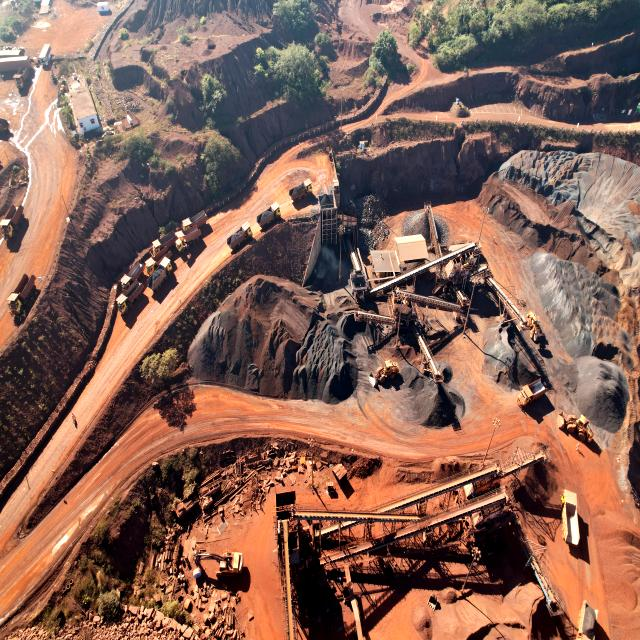Dumper truck: (563, 488, 580, 548), (7, 272, 32, 311), (0, 201, 23, 239), (578, 601, 598, 640), (519, 384, 547, 407), (259, 203, 281, 226), (230, 222, 252, 245), (145, 250, 167, 273), (121, 268, 143, 291), (117, 290, 139, 313), (176, 230, 198, 253), (182, 212, 204, 235), (152, 236, 174, 259), (150, 256, 172, 278), (12, 65, 29, 88), (292, 180, 312, 198), (619, 73, 640, 82), (0, 117, 9, 137), (534, 64, 544, 72)
Excavator: (193, 547, 249, 594)
person: (576, 441, 580, 455), (72, 415, 76, 424), (71, 412, 76, 419), (493, 236, 496, 243)
